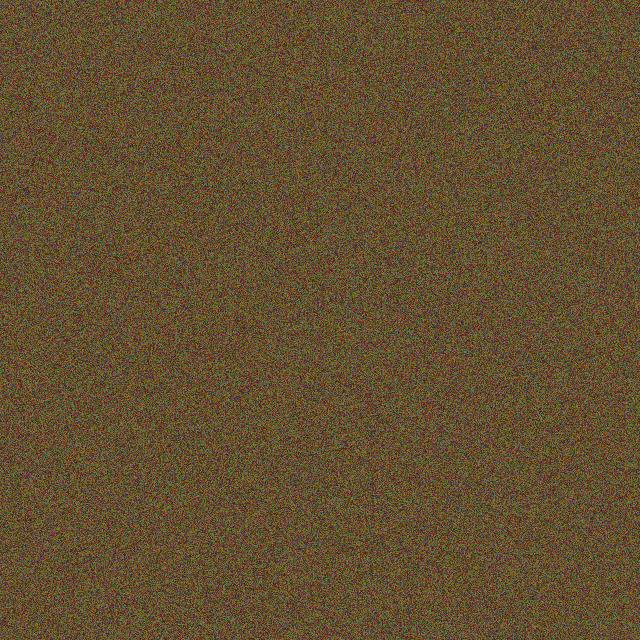unknown_man_made_object: (112, 188, 218, 314)
